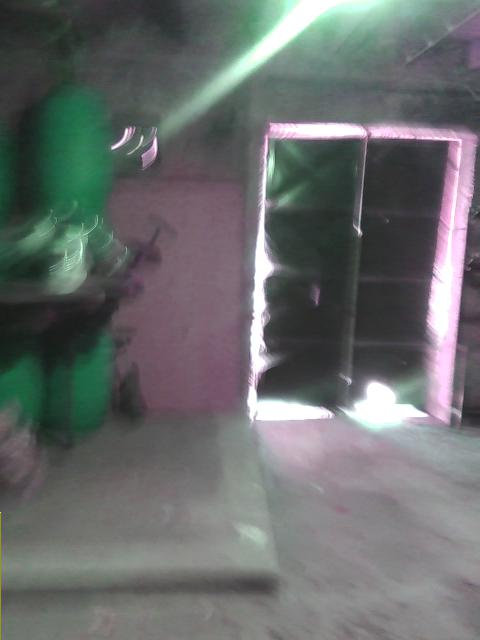closed_door: (247, 122, 475, 442)
